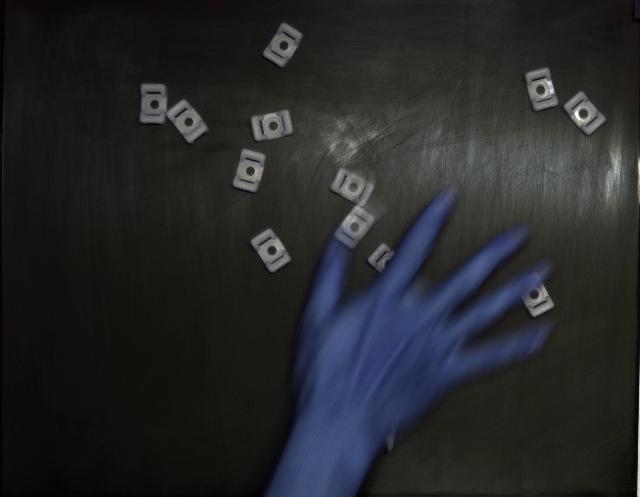first_side: (562, 91, 606, 135), (166, 100, 209, 144), (262, 22, 302, 68), (251, 229, 291, 274), (330, 169, 374, 206), (232, 149, 266, 192), (525, 68, 559, 111), (251, 110, 294, 141), (140, 84, 168, 124)
